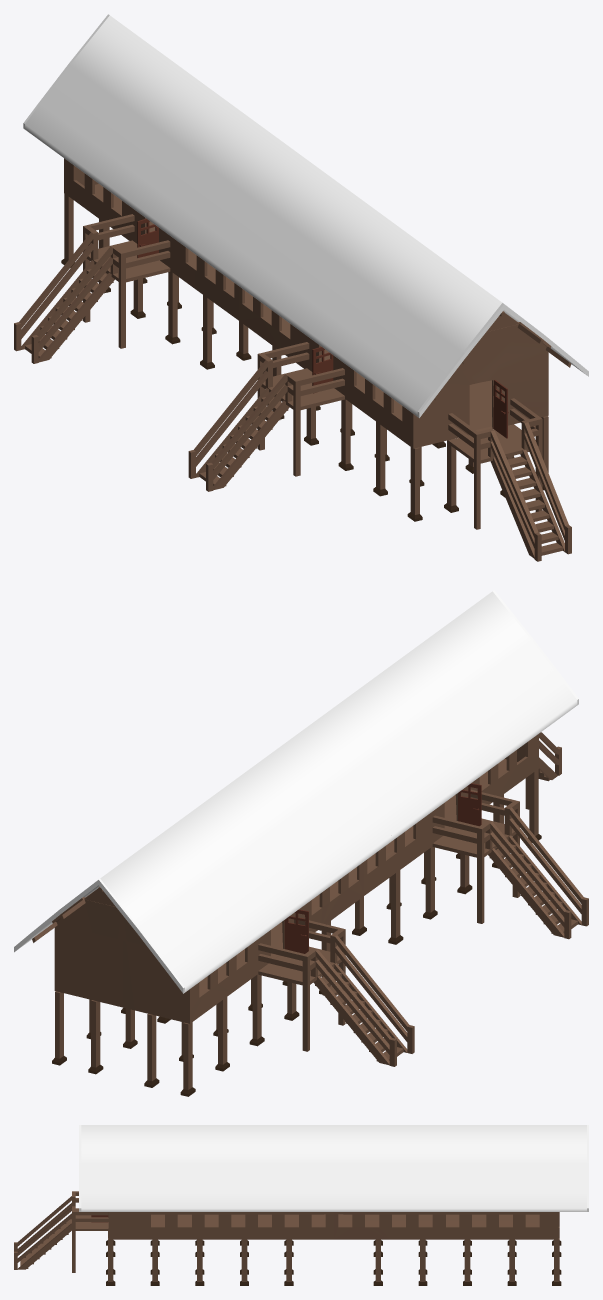
Rendered from rumah_panjang_kalbar.glb.
The picture shows the model from 3 angles, top to bottom: view 1: azimuth 30°, elevation 25°; view 2: azimuth 150°, elevation 25°; view 3: azimuth 270°, elevation 25°; orthographic projection. The views are drawn at different scales.
Visible parts, largest first — view 1: Atap Rumah Panjang, Rumah Panjang (Kalbar), Tangga Rumah Panjang, Pondasi, Front Door; view 2: Atap Rumah Panjang, Rumah Panjang (Kalbar), Pondasi, Tangga Rumah Panjang, Side Door 2, Side Door 1; view 3: Atap Rumah Panjang, Rumah Panjang (Kalbar), Tangga Rumah Panjang, Pondasi.
Boxes of the visible parts, box(x1,y1,x2,y2) form: Atap Rumah Panjang: box(23, 14, 588, 417); Rumah Panjang (Kalbar): box(14, 158, 571, 514); Tangga Rumah Panjang: box(448, 398, 571, 561); Pondasi: box(61, 258, 544, 521); Front Door: box(493, 380, 508, 438); Atap Rumah Panjang: box(14, 590, 578, 993); Rumah Panjang (Kalbar): box(32, 734, 588, 1089); Pondasi: box(52, 834, 541, 1096); Tangga Rumah Panjang: box(525, 732, 561, 809); Side Door 2: box(284, 909, 308, 953); Side Door 1: box(458, 783, 481, 826); Atap Rumah Panjang: box(79, 1125, 588, 1211); Rumah Panjang (Kalbar): box(108, 1212, 559, 1281); Tangga Rumah Panjang: box(14, 1191, 108, 1272); Pondasi: box(106, 1240, 561, 1285).
Size of the model in its own units: 8.54 by 6.32 by 23.6.
